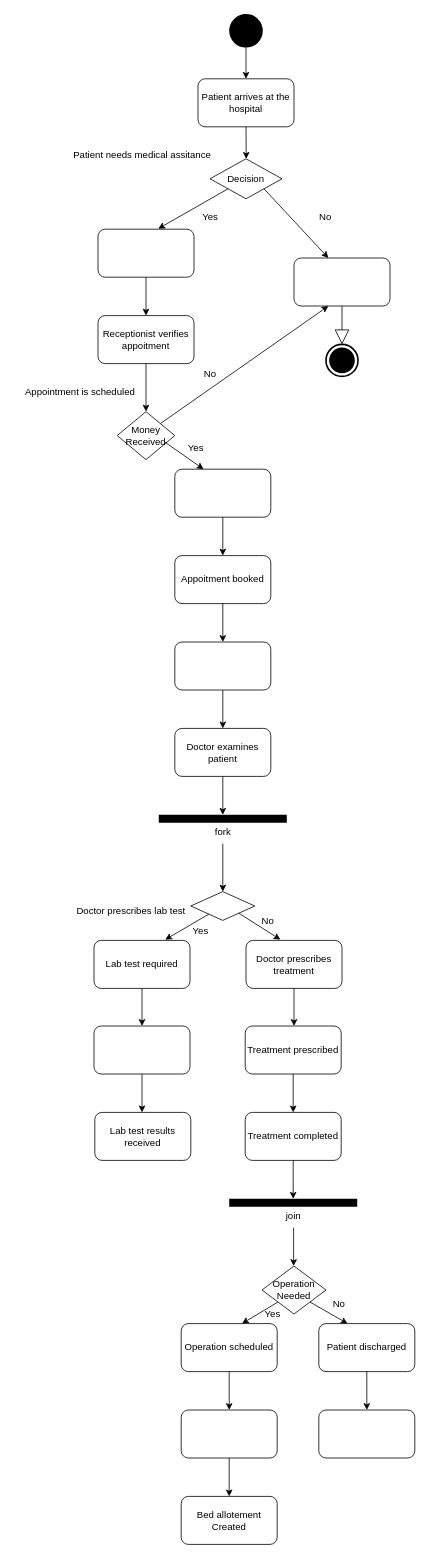
Some shapes in this 429 by 1558 pixel diagram are drawn without their labels. The centre of each missing label's shape, as x and y in pixels:
Discharged: the point at 366,1433
Lab test conducted: the point at 141,1049
Operation performed: the point at 228,1433
Patient books appoitment: the point at 222,492
Patient goes to to receptionist: the point at 145,252
Patient leaves the hospital: the point at 341,281
Patient waits for appoitment: the point at 222,665
